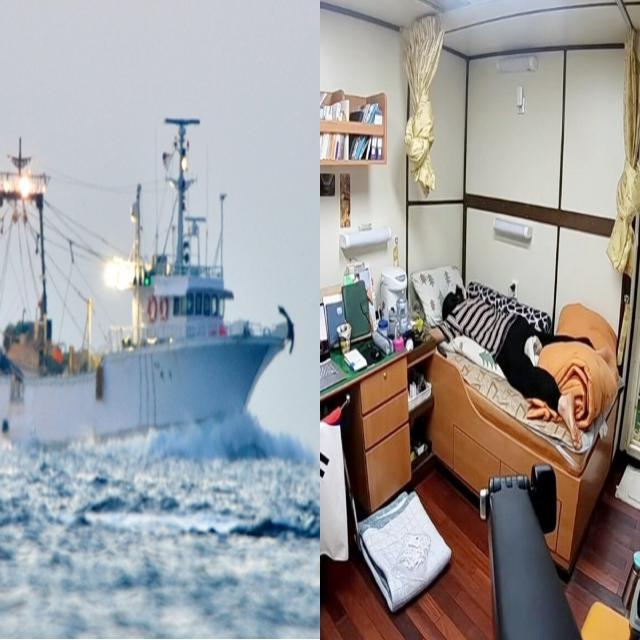Ship: (1, 108, 301, 461)
